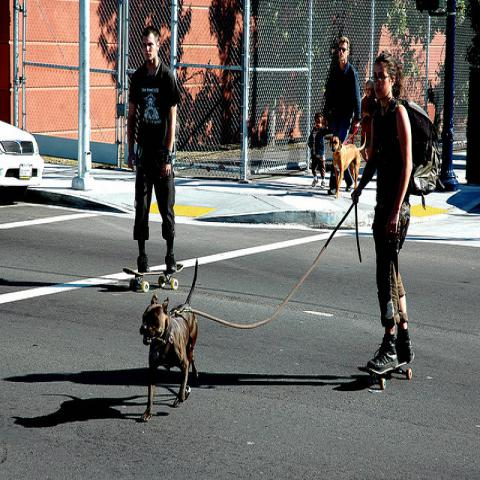car: (0, 120, 47, 205)
